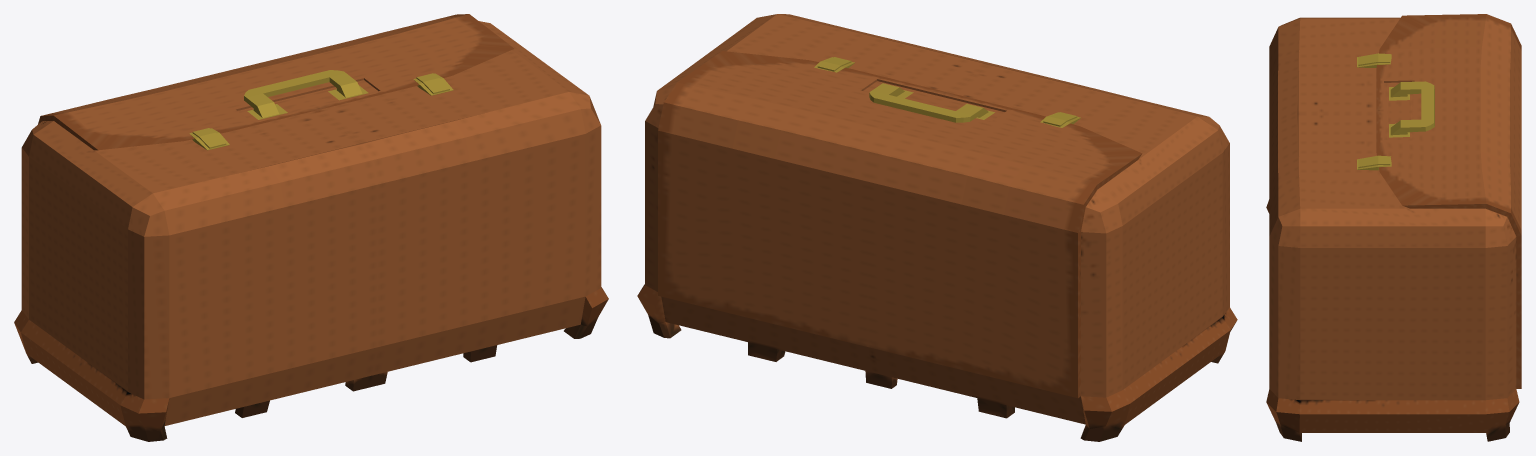
Rendered from 2x1x1 suticase.fbx.
3 views of the same model, side by side, from view 1: azimuth 30°, elevation 25°; view 2: azimuth 150°, elevation 25°; view 3: azimuth 270°, elevation 25° (orthographic). The views are drawn at different scales.
Parts seen in each view (by area): view 1: 2x1x1 Suitcase; view 2: 2x1x1 Suitcase; view 3: 2x1x1 Suitcase.
Part boxes in pixels (x1=…): 2x1x1 Suitcase: x1=14, y1=14, x2=608, y2=441; 2x1x1 Suitcase: x1=637, y1=14, x2=1237, y2=441; 2x1x1 Suitcase: x1=1266, y1=14, x2=1521, y2=441.
Bounding box in the file's own units: 203 × 100 × 99.39.
1 material, 1 textured.
